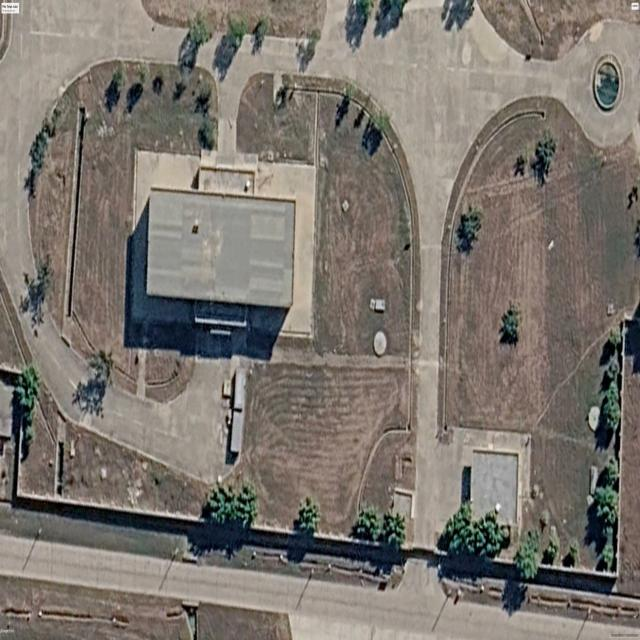Home: (146, 167, 296, 308)
